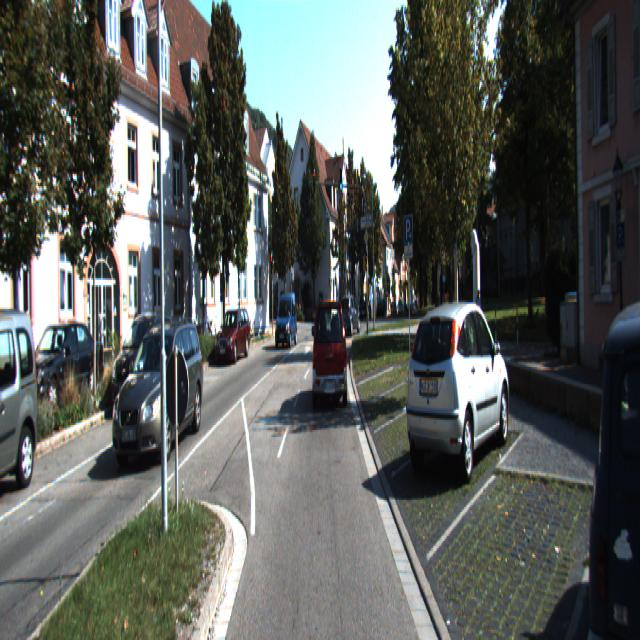Car: (578, 297, 640, 638), (404, 297, 511, 478), (105, 319, 205, 466), (14, 320, 105, 422), (0, 301, 41, 500), (109, 314, 178, 416), (314, 300, 348, 410), (214, 311, 251, 367), (274, 292, 298, 350), (339, 293, 362, 337), (359, 292, 371, 322)
